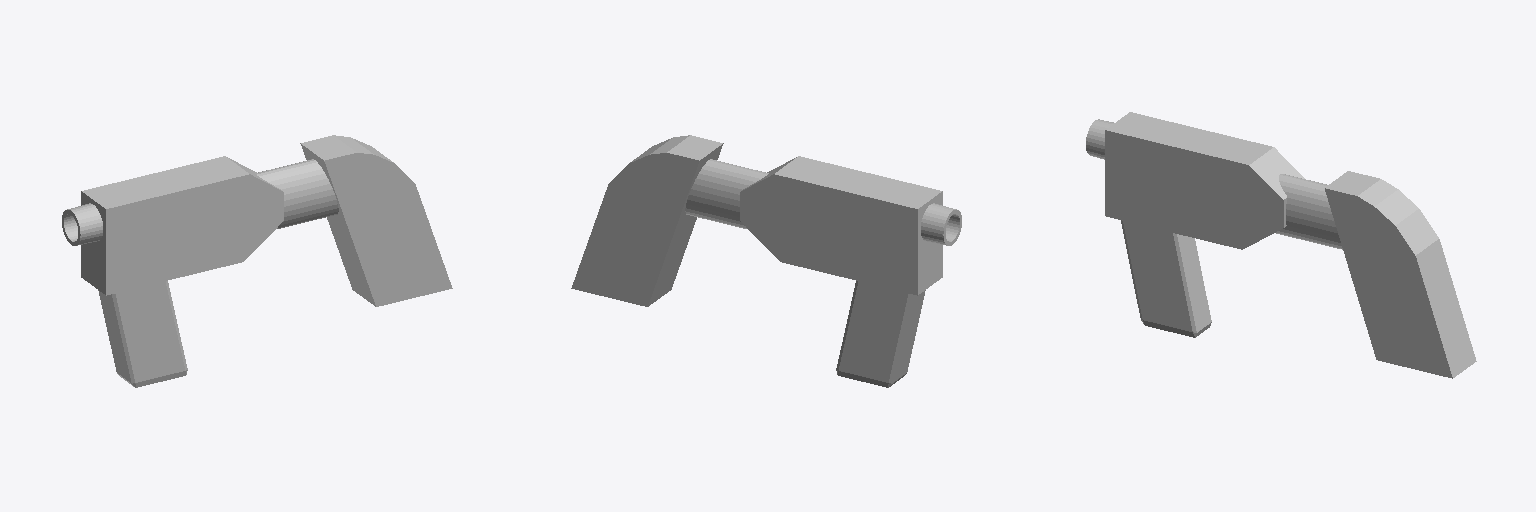
The model's file is assaultrifle.obj.
3 renders of one model, left to right at view 1: azimuth 30°, elevation 25°; view 2: azimuth 150°, elevation 25°; view 3: azimuth 330°, elevation 25°, orthographic.
Visible parts, largest first — view 1: Cube, Cube.002, Cube.001, Cylinder.001, Cylinder.002; view 2: Cube, Cube.002, Cube.001, Cylinder.001, Cylinder.002; view 3: Cube, Cube.002, Cube.001, Cylinder.001, Cylinder.002.
Part boxes in pixels (left/top/right/bottom): Cube: left=81, top=156, right=283, bottom=295; Cube.002: left=300, top=135, right=452, bottom=306; Cube.001: left=98, top=281, right=187, bottom=387; Cylinder.001: left=255, top=159, right=338, bottom=228; Cylinder.002: left=62, top=203, right=102, bottom=245; Cube: left=740, top=156, right=942, bottom=295; Cube.002: left=571, top=135, right=723, bottom=306; Cube.001: left=836, top=281, right=925, bottom=387; Cylinder.001: left=685, top=159, right=768, bottom=228; Cylinder.002: left=921, top=203, right=961, bottom=245; Cube: left=1105, top=112, right=1304, bottom=249; Cube.002: left=1325, top=171, right=1476, bottom=378; Cube.001: left=1121, top=220, right=1211, bottom=337; Cylinder.001: left=1276, top=174, right=1342, bottom=249; Cylinder.002: left=1086, top=119, right=1113, bottom=159.
Size of the model in its own units: 11.7 by 5.77 by 1.36.